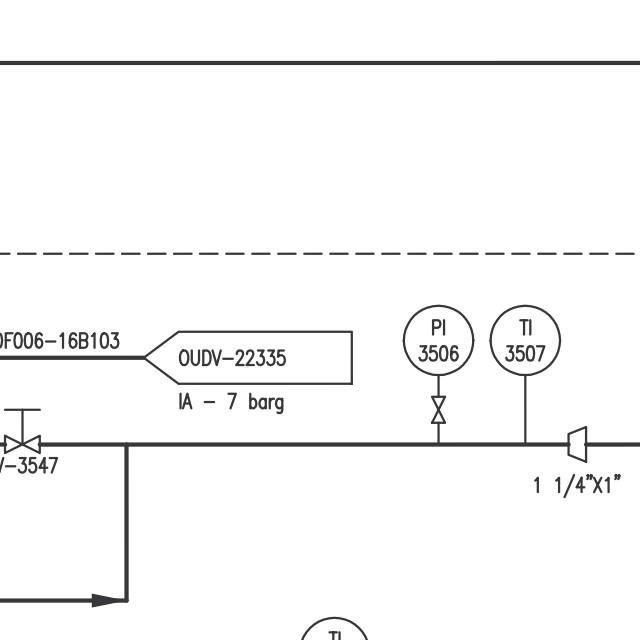GV: (428, 390, 449, 427)
HVWT: (0, 402, 46, 458)
SP: (562, 422, 592, 466)
